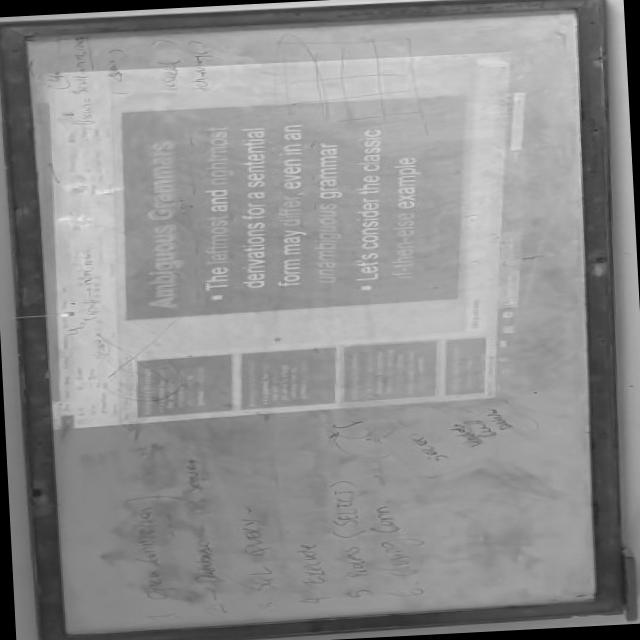Slide: (29, 50, 535, 428)
White-board: (12, 0, 606, 640)
